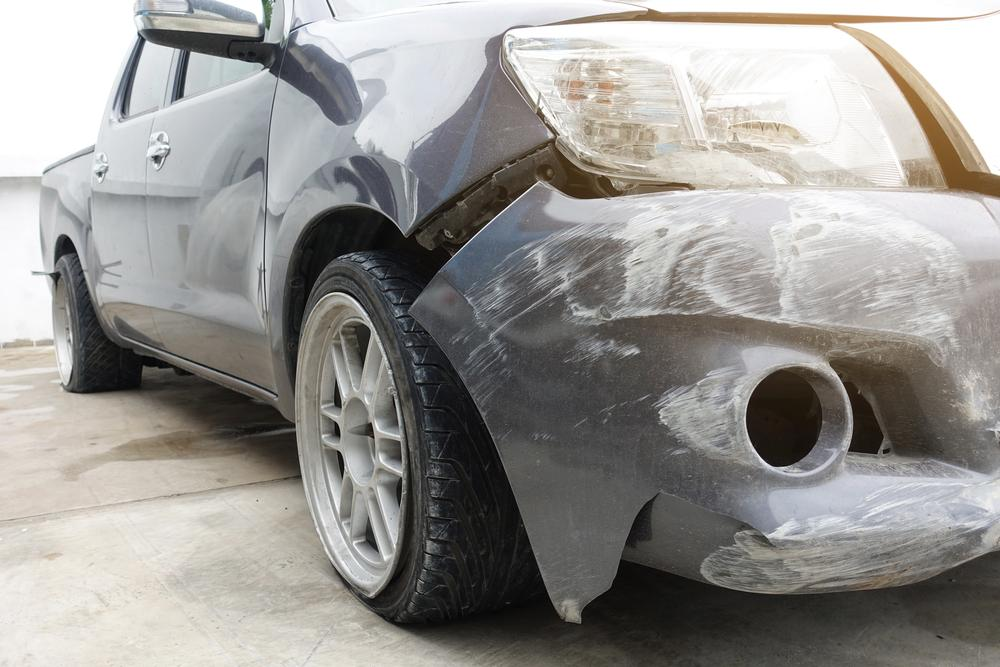crack: (614, 489, 779, 558)
lamp broken: (503, 15, 958, 193)
scratch: (449, 186, 1000, 433), (698, 475, 1000, 595), (650, 363, 764, 468)
tire flat: (296, 249, 549, 627), (45, 251, 140, 392)
